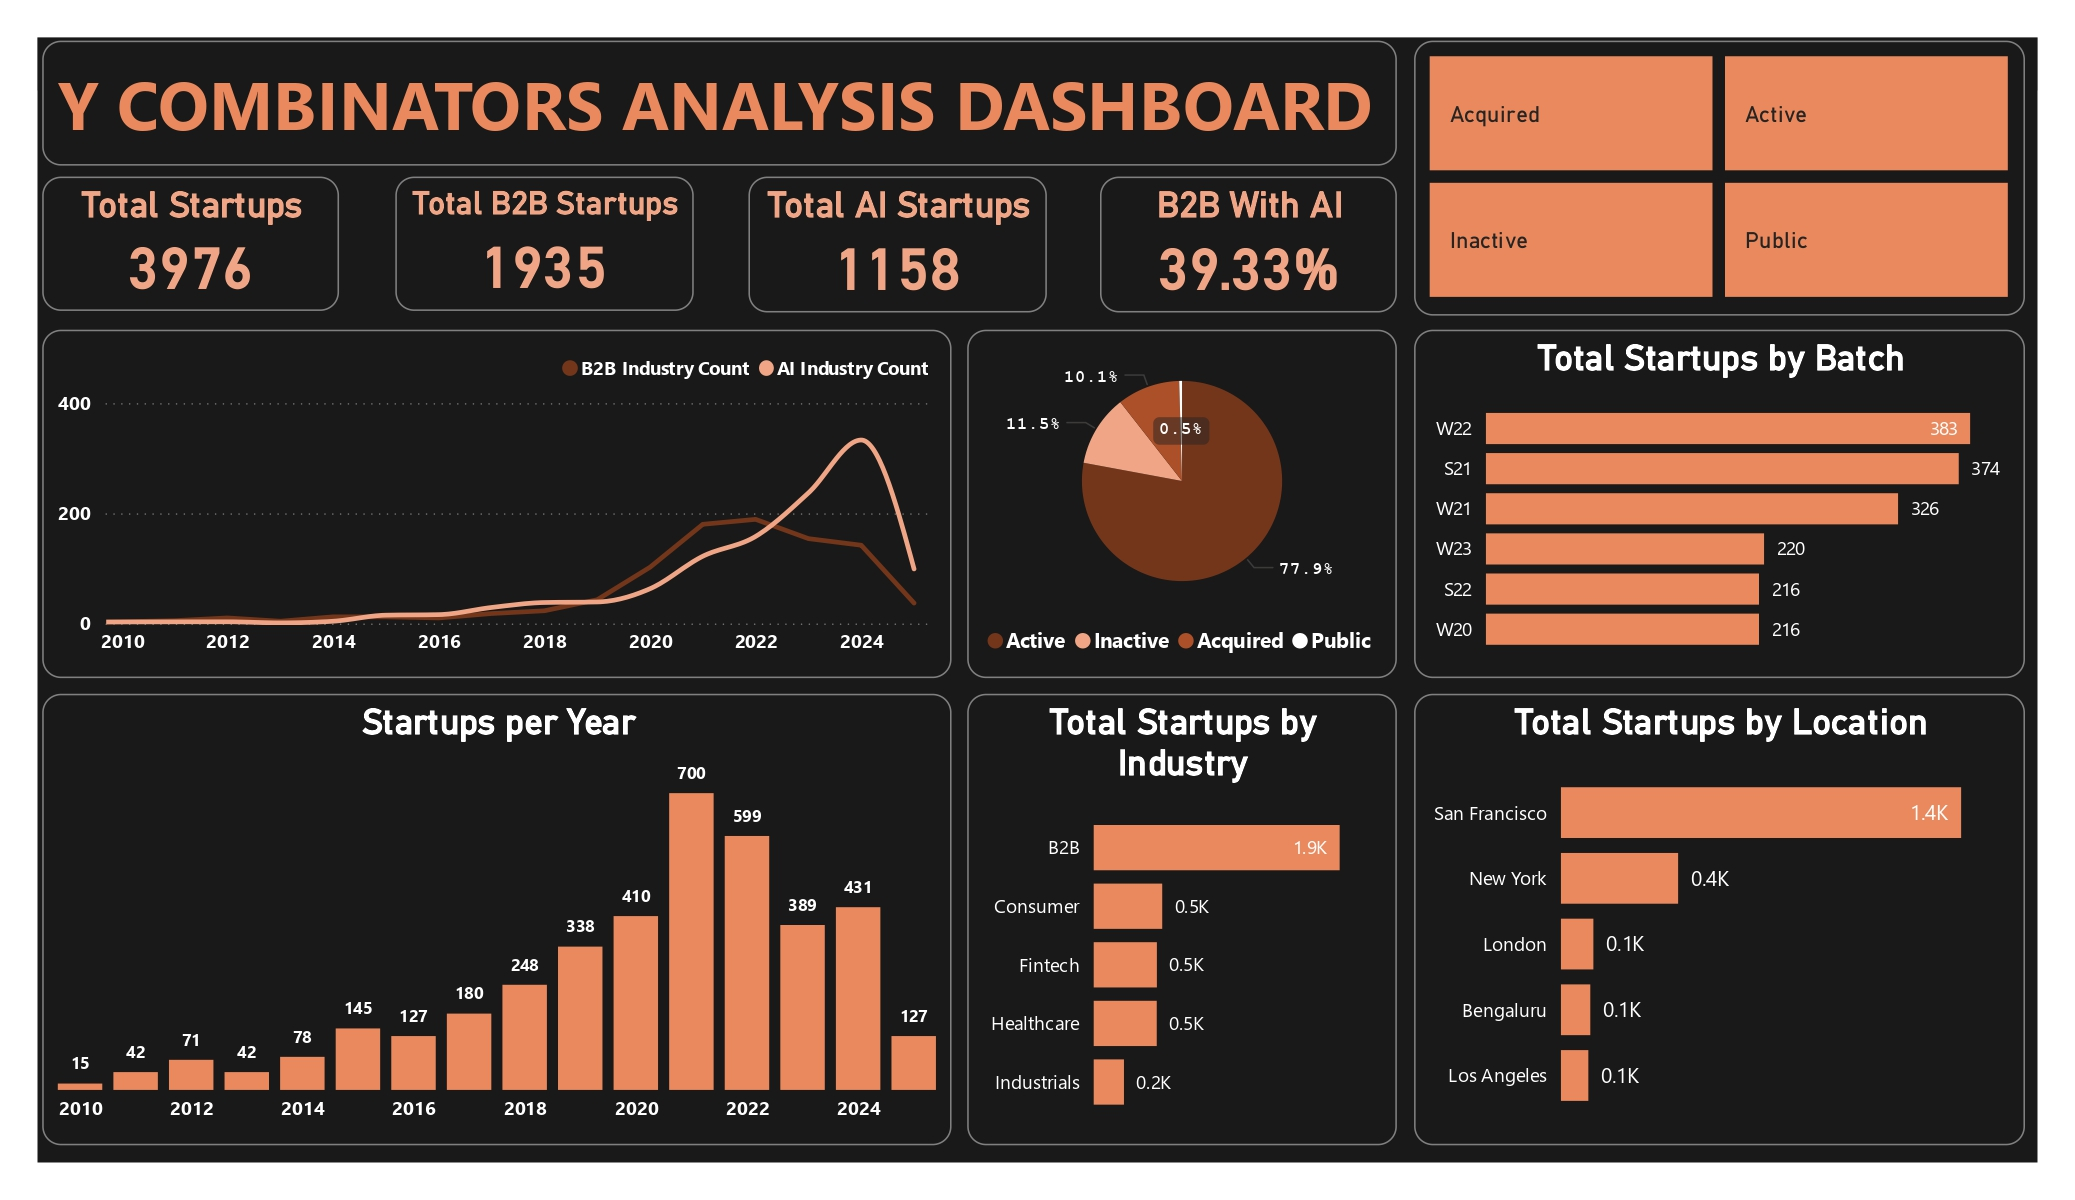

The dashboard page shown, as its layout file describes it:
{"tool":"powerbi","page":{"name":"Y combinator Data analysis","canvas":[1280,720],"ordinal":0},"visuals":[{"type":"textbox","box":[2.9,2,867.2,80.1],"z":0},{"type":"card","title":"Total Startups","fields":{"Values":["MEASURES (2).Total Startups"]},"box":[2.9,89,190.4,86],"z":1000},{"type":"card","title":"Total B2B Startups","fields":{"Values":["MEASURES (2).Total B2B Startups"]},"box":[229.5,89,190.4,85.9],"z":2000},{"type":"card","title":"Total AI Startups","fields":{"Values":["MEASURES (2).Total AI Startups"]},"box":[455.1,89,190.4,86.9],"z":3000},{"type":"card","title":"B2B With AI","fields":{"Values":["MEASURES (2).B2B with AI %"]},"box":[679.7,89,190.4,86.9],"z":4000},{"type":"lineChart","fields":{"Y":["MEASURES (2).B2B Industry Count","MEASURES (2).AI Industry Count"],"Category":["companies_data.batch_year"]},"box":[2.9,187.5,582,222.7],"z":5000},{"type":"clusteredColumnChart","title":"Startups per Year","fields":{"Category":["companies_data.batch_year"],"Y":["MEASURES (2).Startups per Year"]},"box":[2.9,419.9,582,289.1],"z":6000},{"type":"pieChart","fields":{"Y":["MEASURES (2).Total Startups"],"Category":["companies_data.status"]},"box":[594.7,187.5,275.4,222.7],"z":7000},{"type":"barChart","title":"Total Startups by Industry","fields":{"Y":["MEASURES (2).Total Startups"],"Category":["companies_data.industry"]},"box":[595,420,275,289],"z":8000},{"type":"barChart","title":"Total Startups by Location  ","fields":{"Category":["companies_data.Text Before Delimiter"],"Y":["MEASURES (2).Total Startups"]},"box":[880.8,419.9,391.6,289.1],"z":9000},{"type":"advancedSlicerVisual","fields":{"Values":["companies_data.status"]},"box":[880.8,2,391.6,175.8],"z":10000},{"type":"barChart","title":"Total Startups by Batch","fields":{"Y":["MEASURES (2).Total Startups"],"Category":["companies_data.batch"]},"box":[880.8,187.5,391.6,222.7],"z":11000}]}

Visuals, with their boxes on the page's 1280x720 design canvas (x1, y1, x2, y2). These are canvas units, not pixel positions in the 2075x1200 screenshot, which may show the page scaled, cropped or inside an application window:
textbox: Rect(3, 2, 870, 82)
"Total Startups" card: Rect(3, 89, 193, 175)
"Total B2B Startups" card: Rect(230, 89, 420, 175)
"Total AI Startups" card: Rect(455, 89, 646, 176)
"B2B With AI" card: Rect(680, 89, 870, 176)
lineChart - MEASURES (2).B2B Industry Count x MEASURES (2).AI Industry Count: Rect(3, 188, 585, 410)
"Startups per Year" clusteredColumnChart: Rect(3, 420, 585, 709)
pieChart - MEASURES (2).Total Startups x companies_data.status: Rect(595, 188, 870, 410)
"Total Startups by Industry" barChart: Rect(595, 420, 870, 709)
"Total Startups by Location  " barChart: Rect(881, 420, 1272, 709)
advancedSlicerVisual - companies_data.status: Rect(881, 2, 1272, 178)
"Total Startups by Batch" barChart: Rect(881, 188, 1272, 410)
